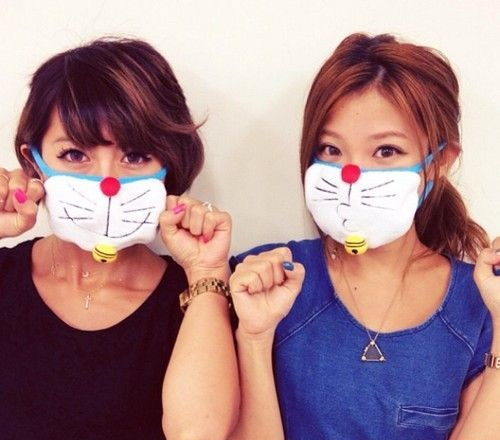face_mask: (38, 97, 165, 249), (305, 84, 425, 241)
